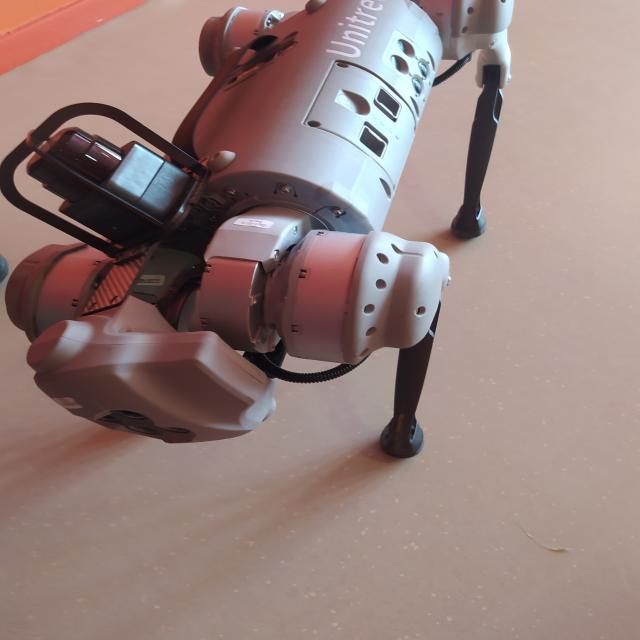unitree-go1-robot: (0, 1, 526, 462)
